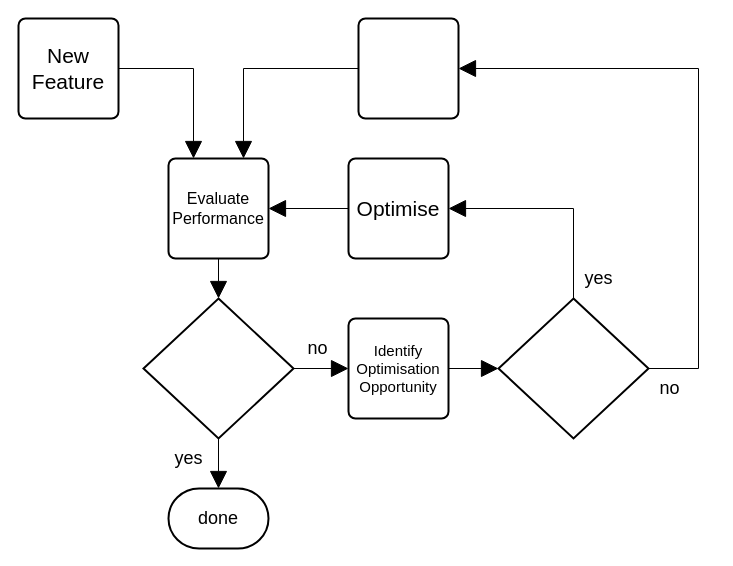
Image size: 733x566. Some labels were removed from this diagram. Each missing label, with the centre of its shape:
"Opportunities Available" belongs at [573,368].
"Performance Sufficient?" belongs at [218,368].
"Redesign" belongs at [408,68].
